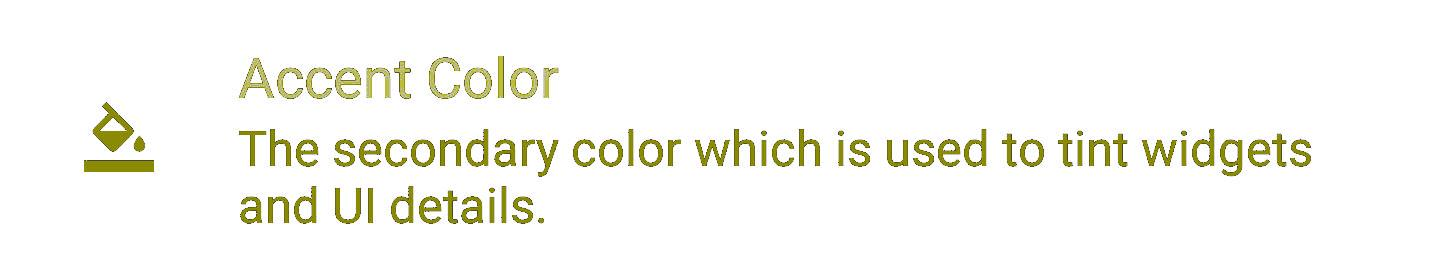CheckedTextView: (1, 1, 1439, 274)
